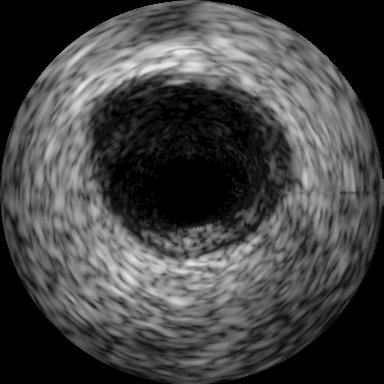Lumen: (153, 147, 235, 227)
